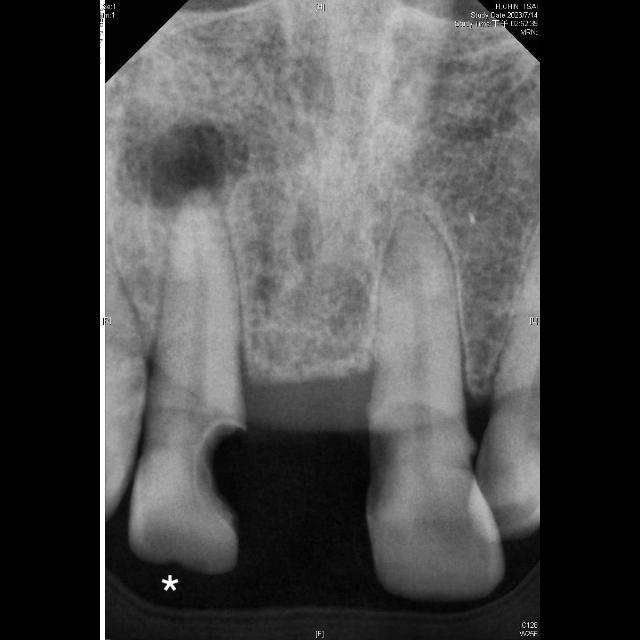test-segment: (128, 189, 246, 575)
